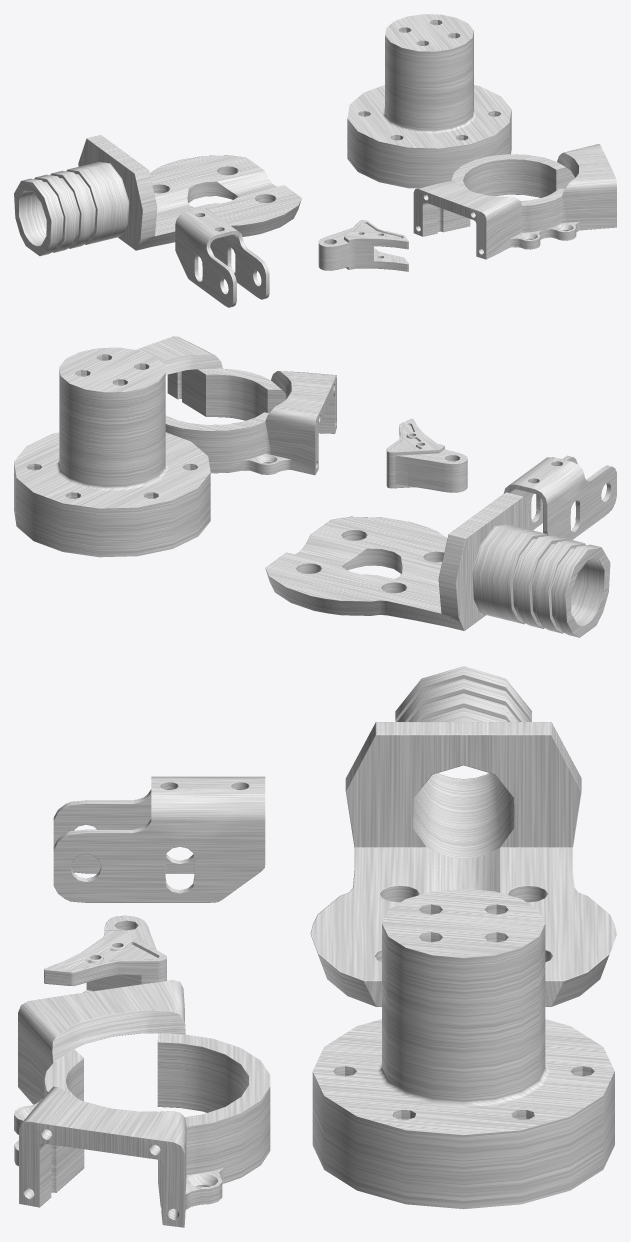
The model's file is metalparts.glb.
3 views of the same model, one above another, from view 1: azimuth 30°, elevation 25°; view 2: azimuth 150°, elevation 25°; view 3: azimuth 270°, elevation 25° (orthographic). The views are drawn at different scales.
Visible parts, largest first — view 1: metalPart01B_GEO, metalPart00B_GEO, metalPart01A_GEO, metalPart00A_GEO, metalPart02A_GEO; view 2: metalPart01B_GEO, metalPart00B_GEO, metalPart01A_GEO, metalPart00A_GEO, metalPart02A_GEO; view 3: metalPart00B_GEO, metalPart01B_GEO, metalPart01A_GEO, metalPart00A_GEO, metalPart02A_GEO.
Boxes of the visible parts, x1=… form: metalPart01B_GEO: x1=14, y1=135, x2=301, y2=256; metalPart00B_GEO: x1=347, y1=14, x2=511, y2=188; metalPart01A_GEO: x1=413, y1=144, x2=616, y2=259; metalPart00A_GEO: x1=175, y1=208, x2=269, y2=307; metalPart02A_GEO: x1=318, y1=220, x2=408, y2=271; metalPart01B_GEO: x1=265, y1=492, x2=610, y2=637; metalPart00B_GEO: x1=14, y1=347, x2=210, y2=557; metalPart01A_GEO: x1=136, y1=336, x2=336, y2=475; metalPart00A_GEO: x1=503, y1=455, x2=616, y2=540; metalPart02A_GEO: x1=386, y1=418, x2=467, y2=492; metalPart00B_GEO: x1=312, y1=889, x2=614, y2=1209; metalPart01B_GEO: x1=310, y1=666, x2=616, y2=1006; metalPart01A_GEO: x1=14, y1=980, x2=270, y2=1227; metalPart00A_GEO: x1=53, y1=776, x2=265, y2=902; metalPart02A_GEO: x1=44, y1=915, x2=166, y2=992.
Bounding box in the file's own units: 0.337 × 0.08 × 0.197.
1 material, 1 textured.
